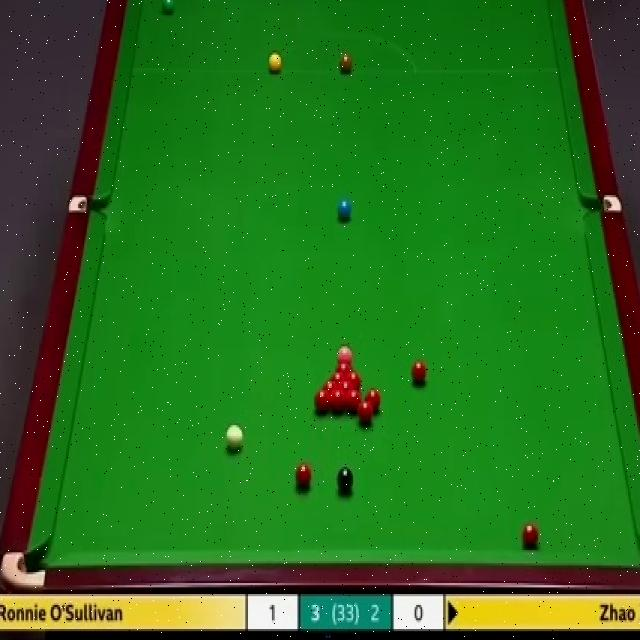black-ball: (337, 467, 355, 495)
blue-ball: (337, 199, 352, 221)
brown-ball: (338, 54, 352, 74)
green-ball: (162, 0, 175, 13)
pink-ball: (336, 344, 352, 358)
red-ball: (294, 464, 312, 490), (313, 388, 330, 413), (521, 523, 537, 549), (411, 361, 427, 387), (346, 389, 362, 414), (365, 388, 380, 414), (330, 388, 345, 412), (358, 402, 372, 426), (347, 370, 361, 388), (333, 359, 353, 370), (329, 370, 346, 380), (338, 380, 354, 390), (322, 380, 337, 390)
white-ball: (226, 422, 243, 453)
yellow-ball: (268, 53, 282, 74)
